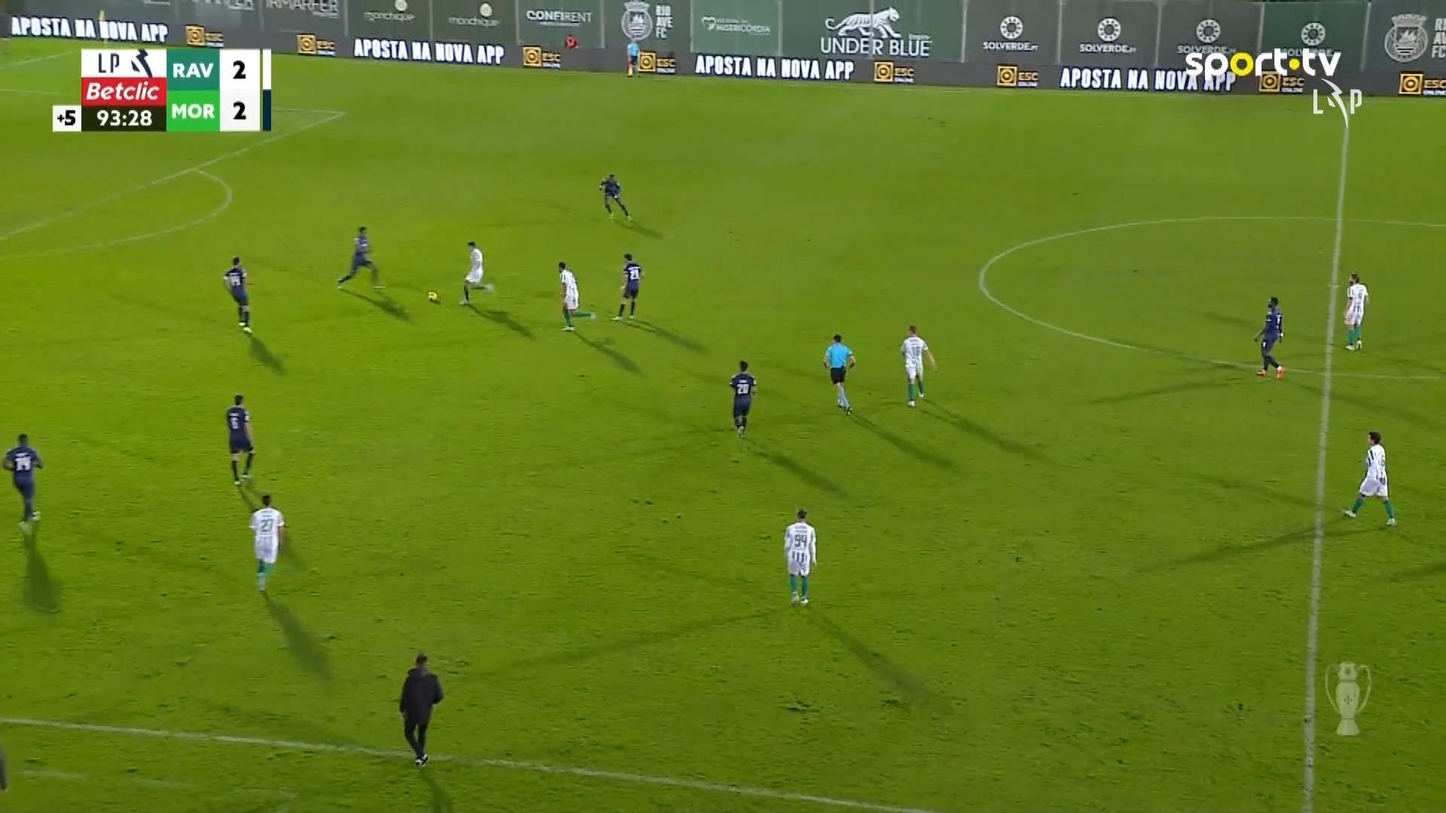ball: (427, 290, 438, 302), (1343, 310, 1354, 322), (1275, 364, 1283, 378)
player: (1341, 430, 1396, 527), (248, 493, 286, 593), (2, 433, 43, 524), (782, 507, 817, 606), (336, 224, 386, 291), (900, 324, 937, 407), (224, 392, 255, 485), (1253, 296, 1285, 379), (222, 255, 253, 333), (728, 360, 757, 437), (611, 252, 643, 321), (458, 239, 490, 305), (1341, 273, 1368, 351), (597, 172, 630, 221), (557, 260, 578, 330)
referee: (398, 652, 443, 767), (822, 333, 856, 414), (625, 38, 640, 78)
